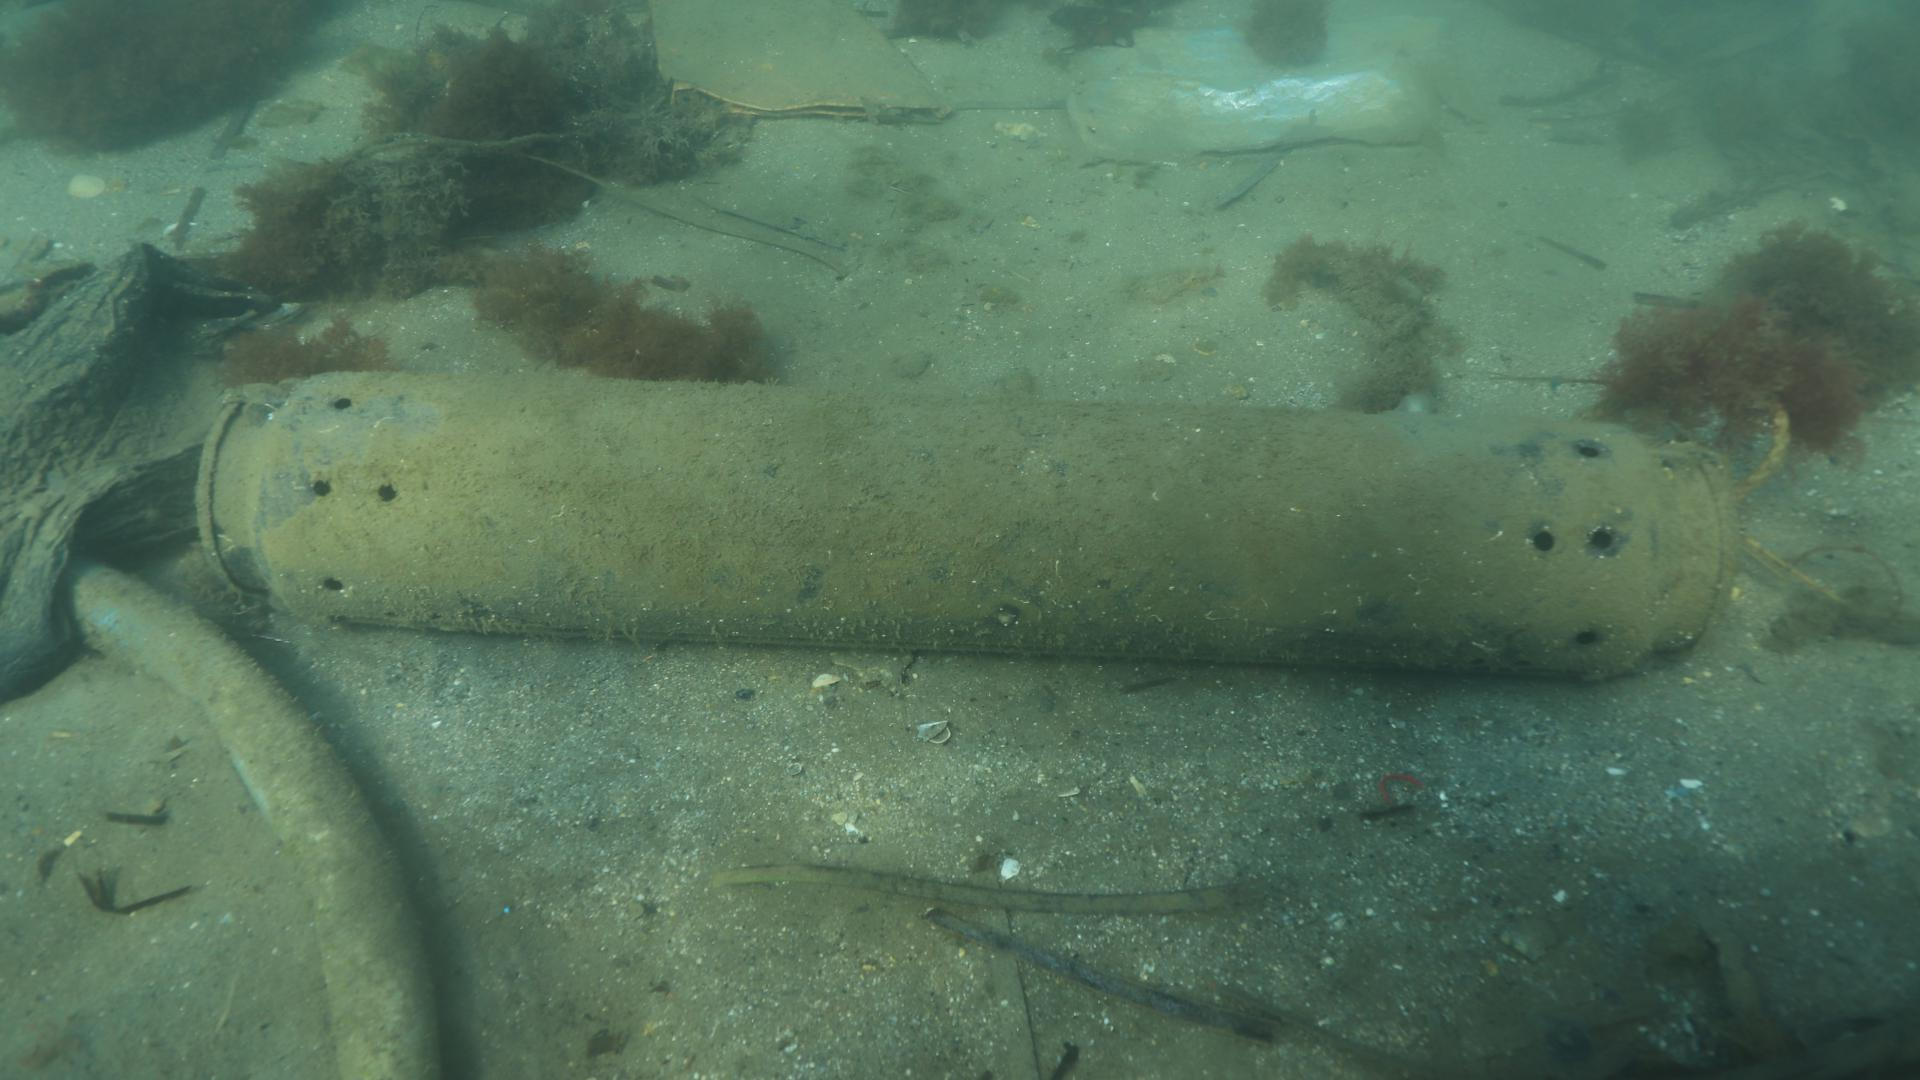eel fish trap: (196, 371, 1737, 687)
rope: (1725, 394, 1788, 505)
